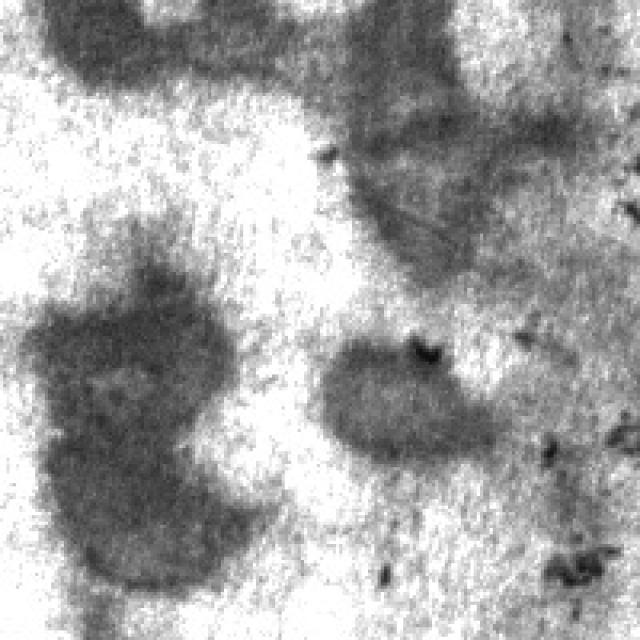inclusion: (528, 522, 618, 598)
patches: (0, 208, 266, 614), (311, 0, 518, 298), (294, 320, 509, 474), (19, 0, 320, 90)
